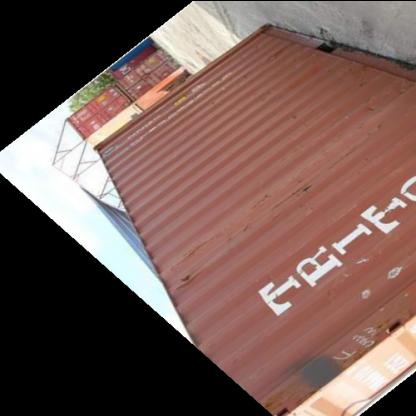Damage: (296, 318, 390, 380), (319, 253, 403, 297), (270, 182, 317, 216), (164, 262, 204, 294), (351, 119, 384, 146), (179, 236, 211, 260), (261, 38, 293, 62), (277, 108, 310, 124)
